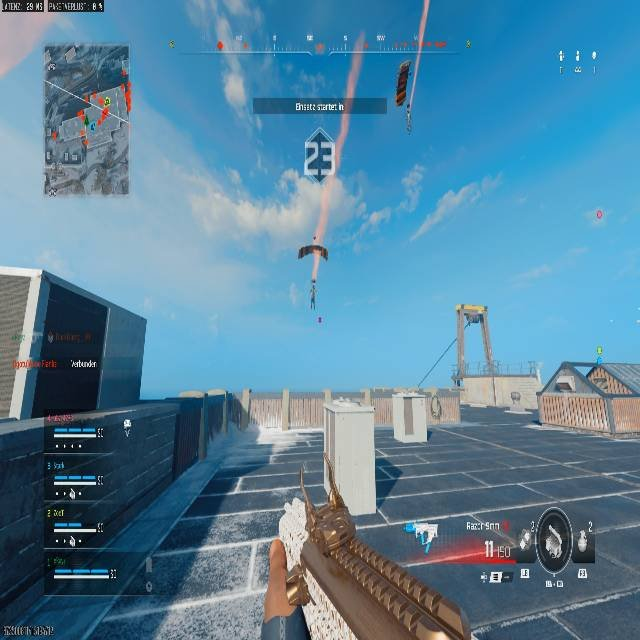player: (302, 127, 334, 180)
